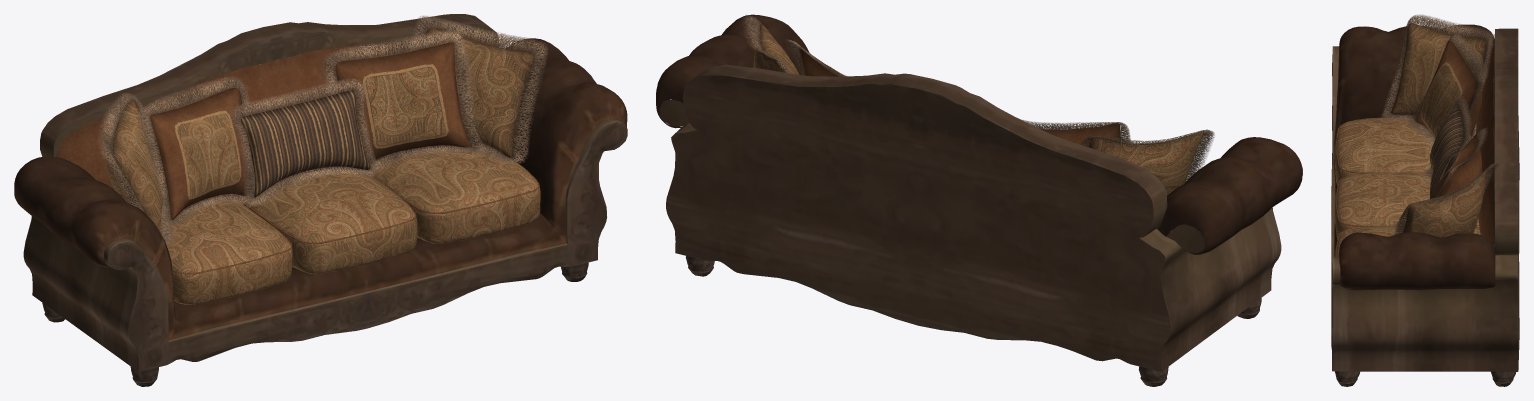
File: leather_sofa.glb
3 views of the same model, side by side, from view 1: azimuth 30°, elevation 25°; view 2: azimuth 150°, elevation 25°; view 3: azimuth 270°, elevation 25° (orthographic). The views are drawn at different scales.
Parts seen in each view (by area): view 1: Frame, Paisley, Fringe, Brown, Stripes, Frame_Fabric; view 2: Frame, Paisley, Fringe, Brown; view 3: Frame, Paisley, Fringe, Brown, Frame_Fabric, Stripes.
Boxes of the visible parts, bbox=[...] form: Frame: bbox=[14, 14, 627, 386]; Paisley: bbox=[106, 27, 540, 304]; Fringe: bbox=[98, 15, 547, 245]; Brown: bbox=[150, 42, 539, 274]; Stripes: bbox=[174, 64, 448, 199]; Frame_Fabric: bbox=[57, 34, 494, 189]; Frame: bbox=[656, 14, 1302, 386]; Paisley: bbox=[753, 23, 1204, 231]; Fringe: bbox=[743, 15, 1214, 181]; Brown: bbox=[799, 47, 1120, 146]; Frame: bbox=[1331, 24, 1519, 386]; Paisley: bbox=[1334, 23, 1486, 257]; Fringe: bbox=[1381, 14, 1498, 234]; Brown: bbox=[1336, 40, 1482, 257]; Frame_Fabric: bbox=[1476, 39, 1494, 245]; Stripes: bbox=[1421, 61, 1471, 198].
Size of the model in its own units: 2.73 by 1.12 by 0.9225.
Materials: 6 (6 with a texture image).
